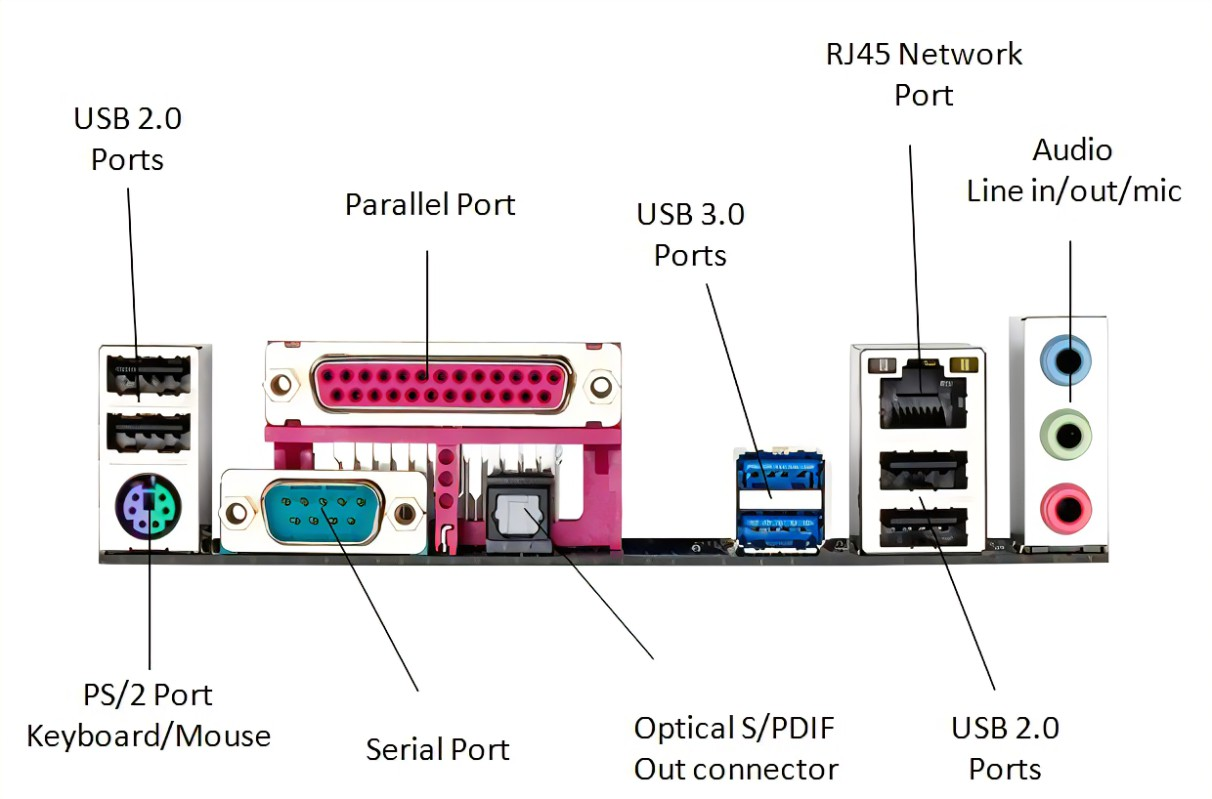Ethernet: (860, 354, 979, 442)
USB: (858, 503, 990, 550), (863, 449, 983, 499), (97, 409, 199, 465), (103, 352, 194, 405)
